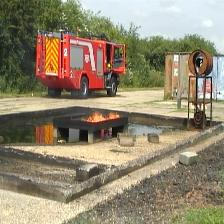fire: (80, 111, 120, 124)
